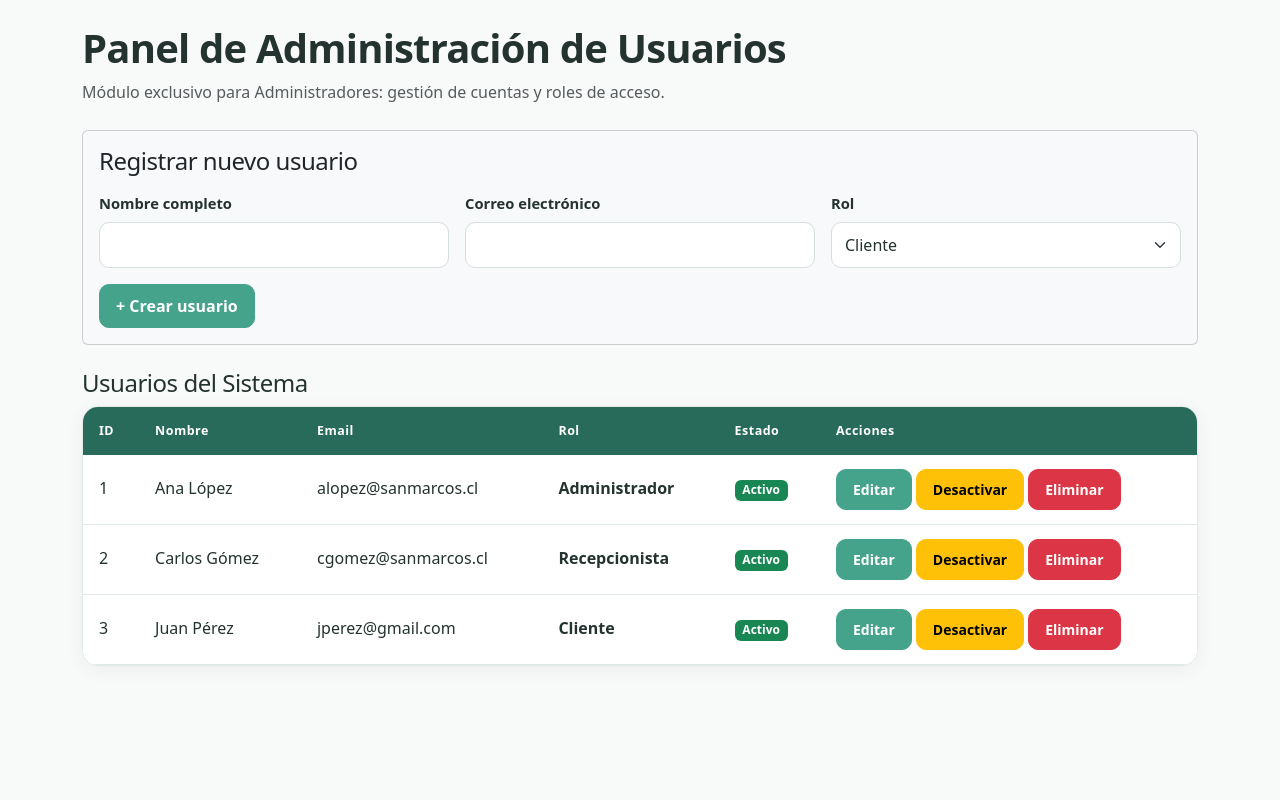
Test case: UsuariosPage › muestra errores al enviar el formulario vacío
Click the button "+ Crear usuario" at (177, 306), box [99,284,255,328]
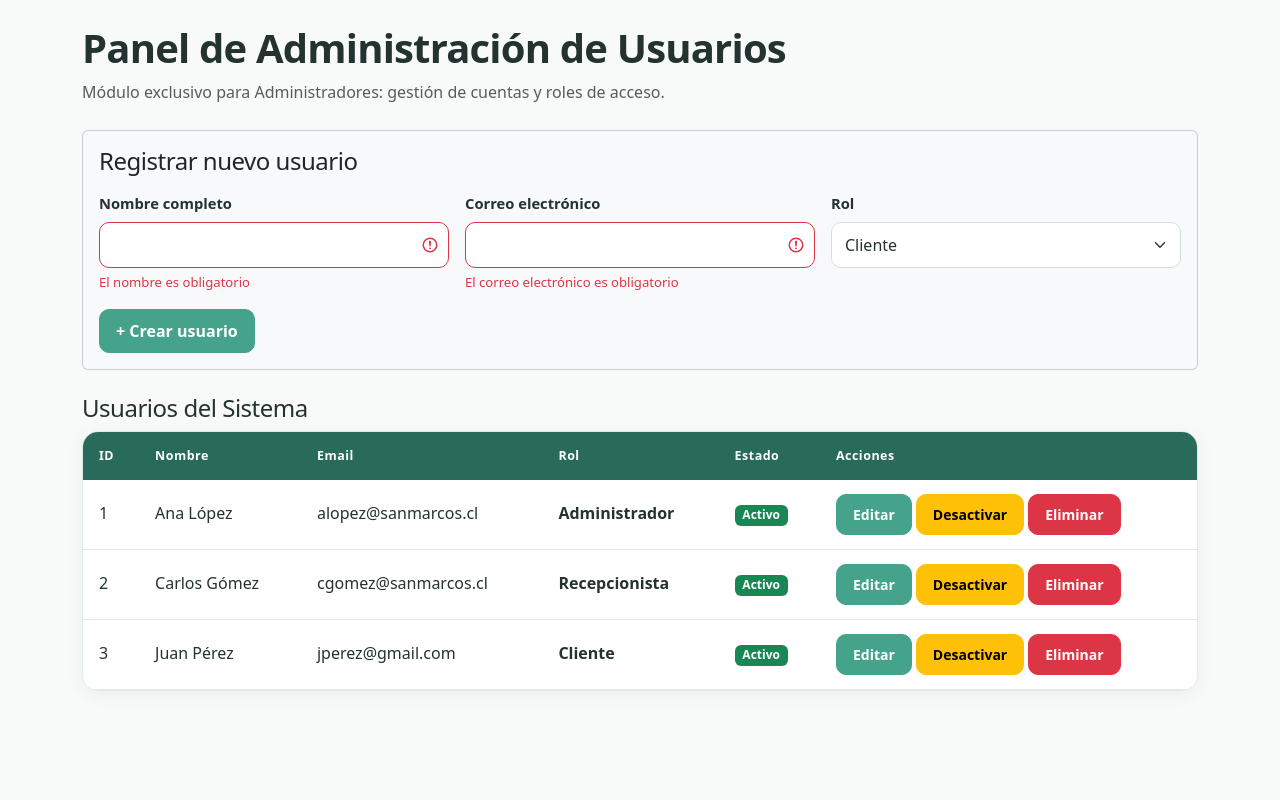
expect the number of rows is 4: met, box [83,432,1197,480]; [83,480,1197,549]; [83,549,1197,619]; [83,619,1197,689]
expect the text "El nombre es obligatorio" is shown: met, box [99,273,250,291]
expect the text "El correo electrónico es obligatorio" is shown: met, box [465,273,679,291]
